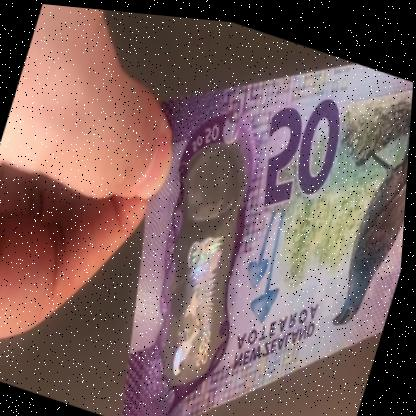50B: (156, 163, 265, 391)
